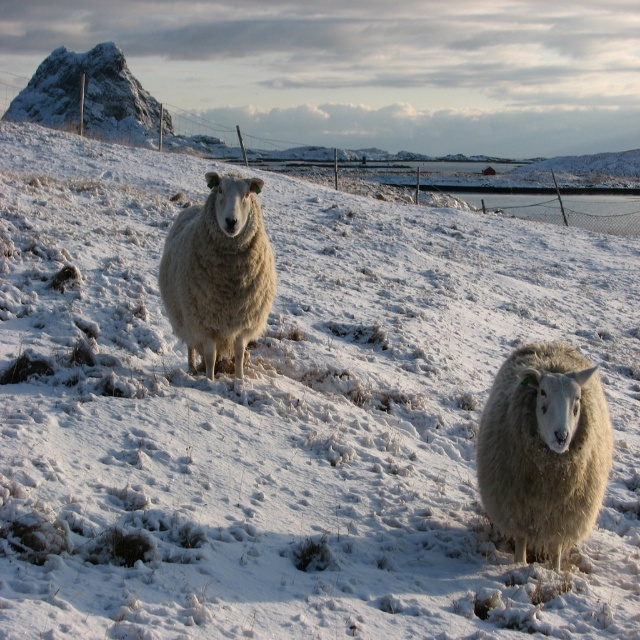Sheep: (476, 332, 608, 562), (158, 171, 278, 382)
